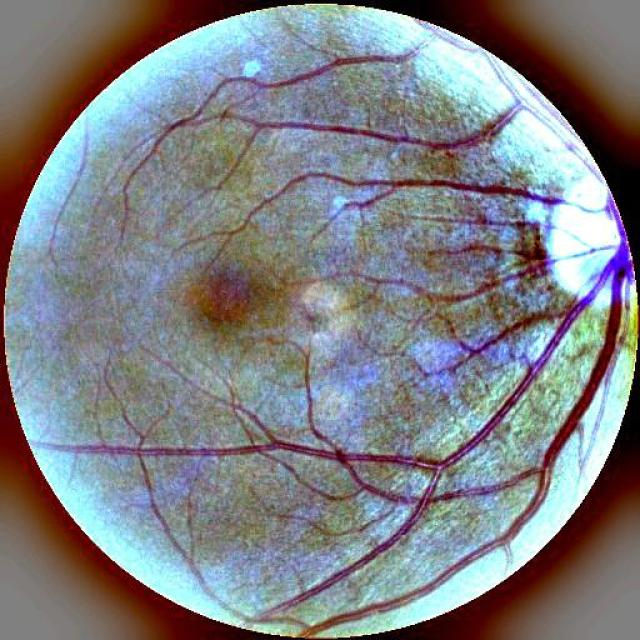Macula: (183, 242, 290, 355)
Nerves: (46, 243, 628, 632), (226, 167, 596, 237)
Optic Disk: (520, 128, 639, 350)
